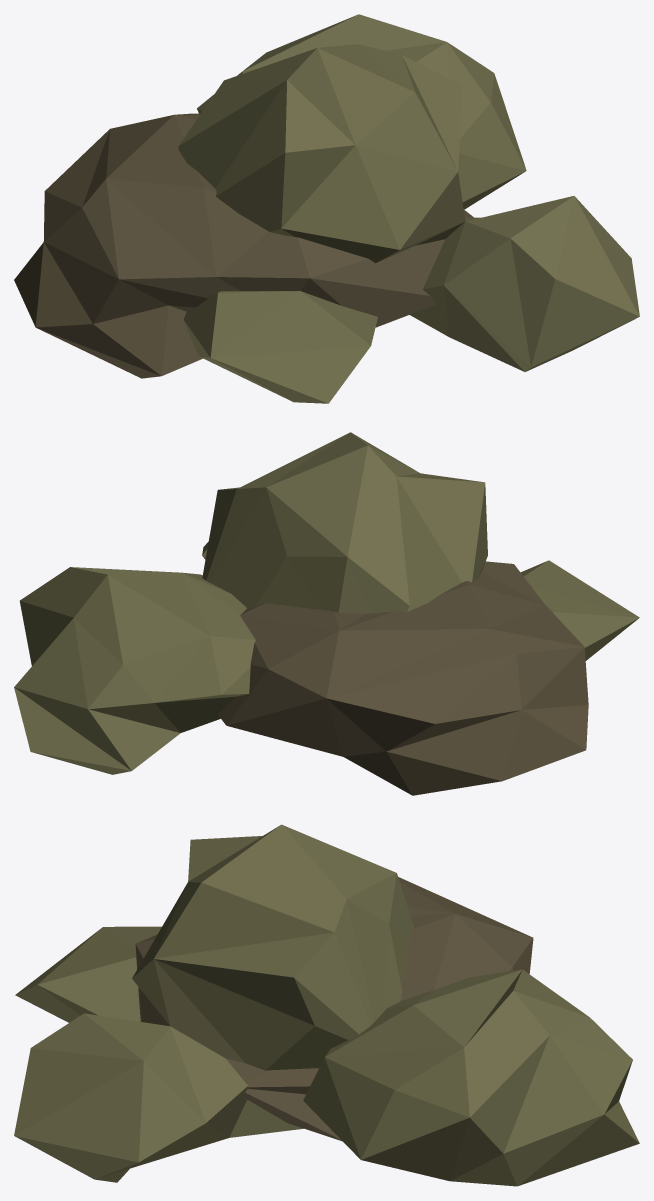
File: SM_Env_Bush_Large_01.glb
The picture shows the model from 3 angles, top to bottom: view 1: azimuth 30°, elevation 25°; view 2: azimuth 150°, elevation 25°; view 3: azimuth 270°, elevation 25°; orthographic projection. The views are drawn at different scales.
Visible parts, largest first — view 1: SM_Env_Bush_Large_01; view 2: SM_Env_Bush_Large_01; view 3: SM_Env_Bush_Large_01.
Boxes of the visible parts, x1,y1,x2,y2 form: SM_Env_Bush_Large_01: (14,14,639,403); SM_Env_Bush_Large_01: (14,432,639,795); SM_Env_Bush_Large_01: (14,824,639,1186).
Bounding box in the file's own units: 5.32 × 2.86 × 5.46.
1 material, 1 textured.
